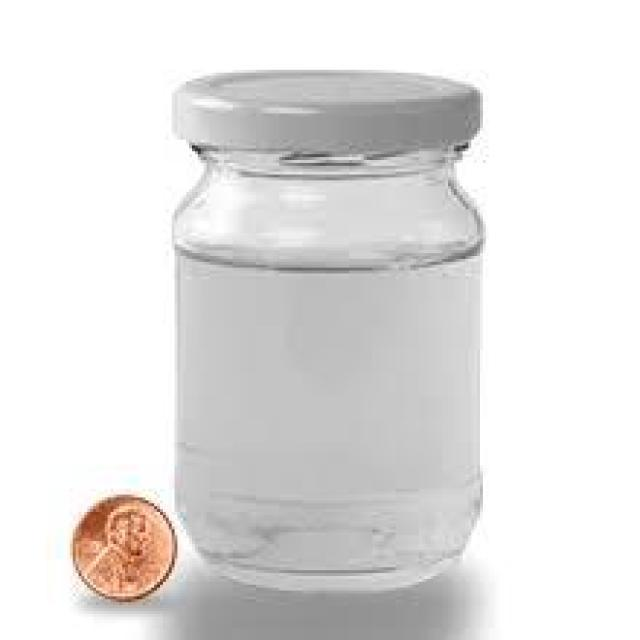Glass: (170, 68, 487, 600)
